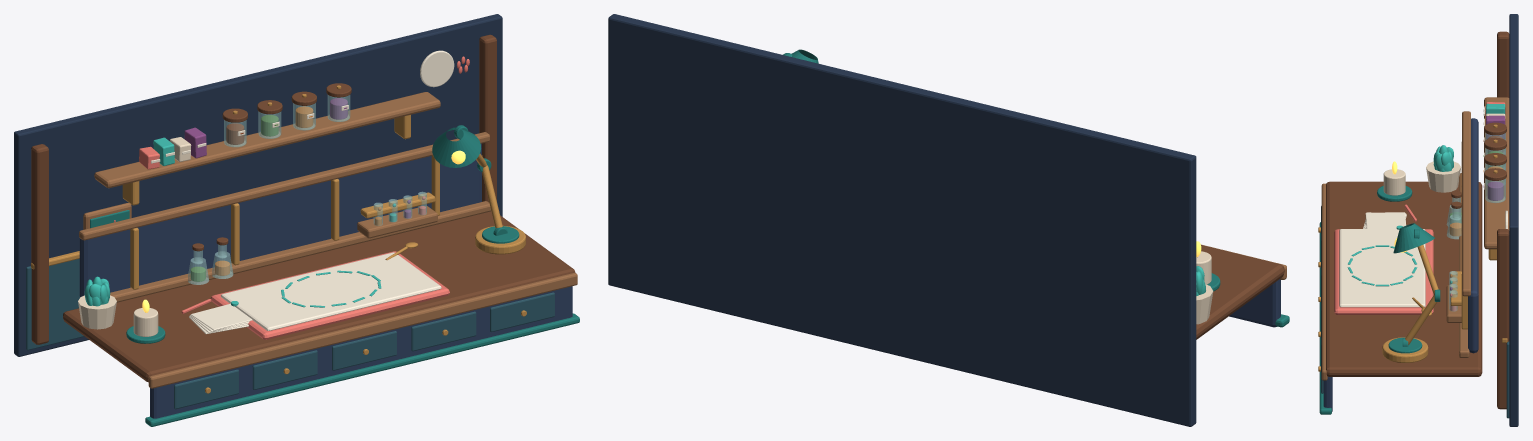
The model's file is night_lab_scene.glb.
3 renders of one model, left to right at view 1: azimuth 30°, elevation 25°; view 2: azimuth 150°, elevation 25°; view 3: azimuth 270°, elevation 25°, orthographic. The views are drawn at different scales.
Visible parts, largest first — view 1: NL_BackWall, NL_Batch_Indigo, NL_DeskTop, NL_Batch_WoodEdge, NL_Batch_Panel, NL_MatTop, NL_Batch_Walnut, NL_UpperShelf, NL_Batch_Brass, NL_Batch_MintDark, NL_Batch_Glass, NL_Batch_CreamHi (+9 smaller); view 2: NL_BackWall, NL_DeskTop, NL_Batch_Indigo; view 3: NL_DeskTop, NL_MatTop, NL_Batch_Walnut, NL_BackWall, NL_Batch_WoodEdge, NL_Batch_Brass, NL_Batch_Indigo, NL_UpperShelf, NL_MatBase, NL_Batch_Glass, NL_Batch_MintDark, NL_Batch_Mint (+7 smaller).
Part boxes in pixels (<box>): NL_BackWall: <box>14,14,502,356</box>; NL_Batch_Indigo: <box>79,143,572,418</box>; NL_DeskTop: <box>63,211,575,382</box>; NL_Batch_WoodEdge: <box>79,132,577,388</box>; NL_Batch_Panel: <box>26,258,554,409</box>; NL_MatTop: <box>221,252,441,330</box>; NL_Batch_Walnut: <box>31,34,496,344</box>; NL_UpperShelf: <box>94,92,440,188</box>; NL_Batch_Brass: <box>31,85,526,393</box>; NL_Batch_MintDark: <box>126,125,579,426</box>; NL_Batch_Glass: <box>188,95,426,284</box>; NL_Batch_CreamHi: <box>151,50,454,334</box>; NL_BackWall: <box>608,14,1196,426</box>; NL_DeskTop: <box>1196,245,1284,339</box>; NL_Batch_Indigo: <box>1229,279,1280,327</box>; NL_DeskTop: <box>1326,181,1482,376</box>; NL_MatTop: <box>1339,229,1425,307</box>; NL_Batch_Walnut: <box>1451,31,1509,409</box>; NL_BackWall: <box>1509,14,1518,426</box>; NL_Batch_WoodEdge: <box>1321,111,1470,380</box>; NL_Batch_Brass: <box>1318,124,1507,371</box>; NL_Batch_Indigo: <box>1323,118,1478,411</box>; NL_UpperShelf: <box>1484,97,1509,249</box>; NL_MatBase: <box>1334,229,1433,314</box>; NL_Batch_Glass: <box>1446,133,1505,311</box>; NL_Batch_MintDark: <box>1319,186,1440,414</box>; NL_Batch_Mint: <box>1347,103,1505,286</box>.
Size of the model in its own units: 6.6 by 2.92 by 2.62.
